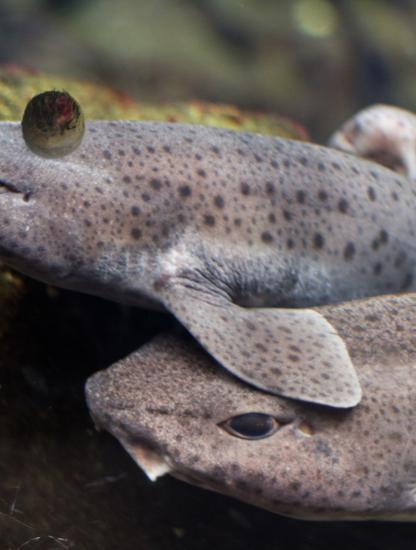Beetroot: (16, 86, 91, 161)
